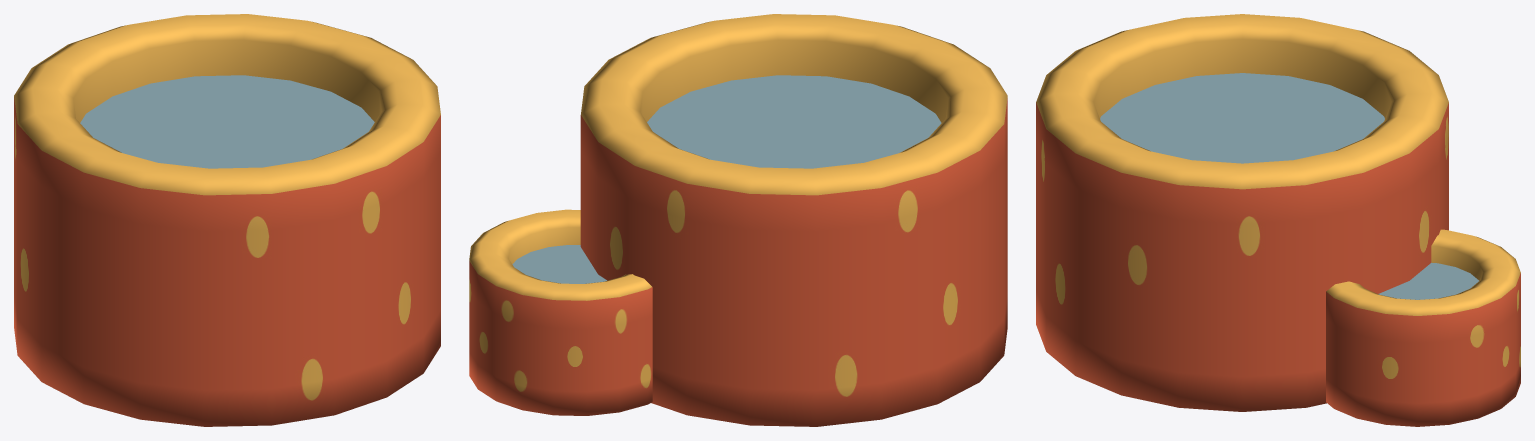
The model's file is WoodWater.fbx.
The picture shows the model from 3 angles, left to right: view 1: azimuth 30°, elevation 25°; view 2: azimuth 150°, elevation 25°; view 3: azimuth 270°, elevation 25°; orthographic projection. The views are drawn at different scales.
Parts seen in each view (by area): view 1: pCylinder3, pCylinder2; view 2: pCylinder3, pCylinder4, pCylinder2 (×2); view 3: pCylinder3, pCylinder4, pCylinder2 (×2).
Boxes of the visible parts, x1,y1,x2,y2 form: pCylinder3: (14, 14, 440, 426); pCylinder2: (80, 75, 374, 168); pCylinder3: (580, 14, 1007, 426); pCylinder4: (469, 209, 652, 415); pCylinder2 (×2): (512, 75, 941, 283); pCylinder3: (1036, 14, 1448, 411); pCylinder4: (1326, 229, 1520, 426); pCylinder2 (×2): (1100, 73, 1478, 299).
Size of the model in its own units: 3.37 by 1.9 by 3.62.
2 materials, 1 textured.
